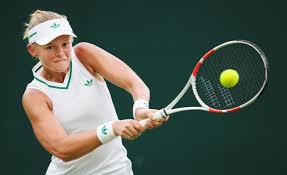ball_tennis: (219, 68, 240, 89)
